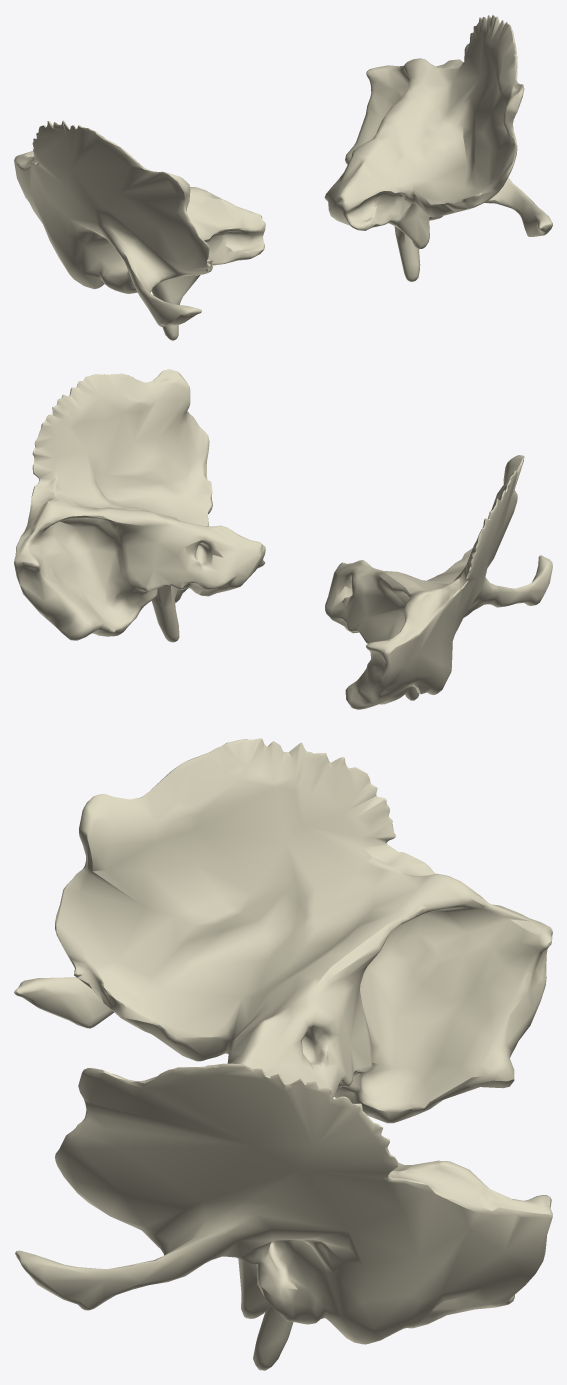
File: temporal.glb
The picture shows the model from 3 angles, top to bottom: view 1: azimuth 30°, elevation 25°; view 2: azimuth 150°, elevation 25°; view 3: azimuth 270°, elevation 25°; orthographic projection. The views are drawn at different scales.
Visible parts, largest first — view 1: grp1; view 2: grp1; view 3: grp1.
Part boxes in pixels (bbox=[...]): grp1: bbox=[14, 14, 552, 340]; grp1: bbox=[14, 369, 552, 709]; grp1: bbox=[14, 738, 552, 1370].
Size of the model in its own units: 0.1466 by 0.076 by 0.0987.
